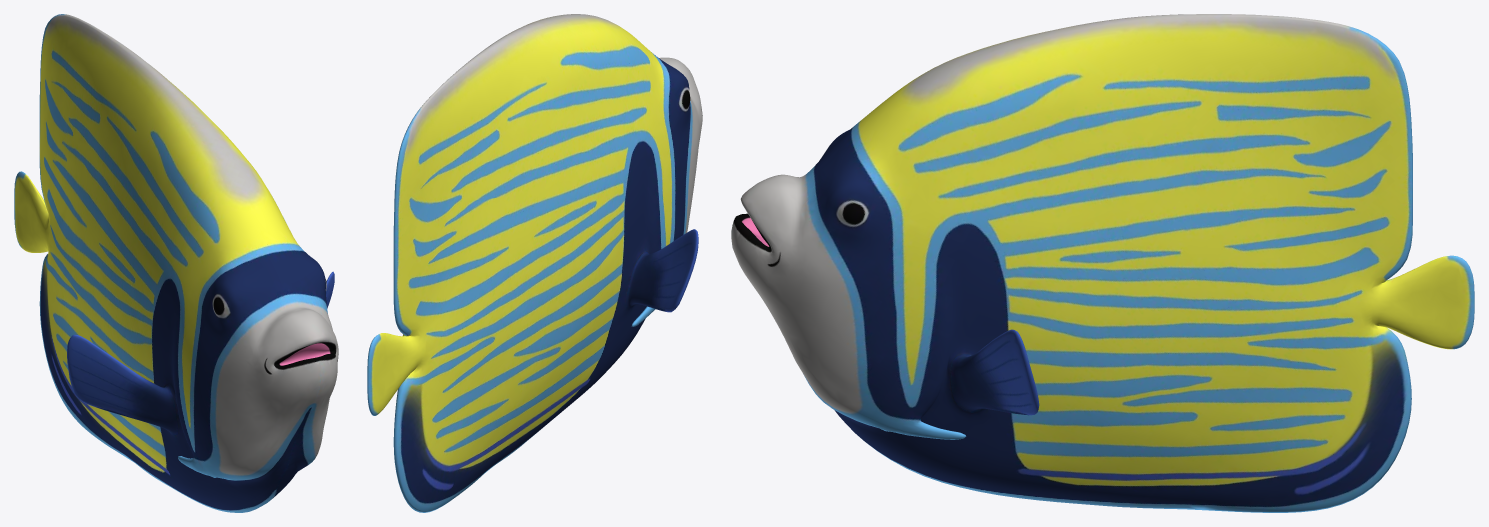
File: angelfish.glb
3 views of the same model, side by side, from view 1: azimuth 30°, elevation 25°; view 2: azimuth 150°, elevation 25°; view 3: azimuth 270°, elevation 25° (orthographic). The views are drawn at different scales.
Parts seen in each view (by area): view 1: angel_fish_3.1; view 2: angel_fish_3.1; view 3: angel_fish_3.1.
Part boxes in pixels (box(x1,y1,x2,y2)): angel_fish_3.1: box(14, 14, 338, 512); angel_fish_3.1: box(367, 14, 702, 512); angel_fish_3.1: box(731, 14, 1474, 512).
Bounding box in the file's own units: 0.022 × 0.0326 × 0.0439.
Materials: 1 (1 with a texture image).
